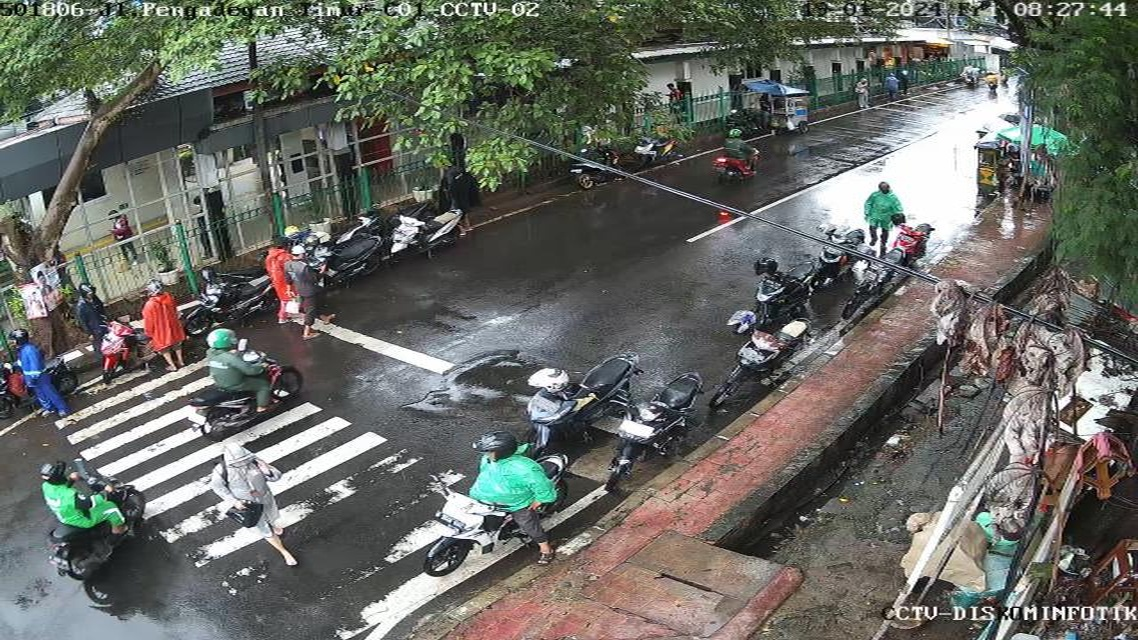Gerobak: (966, 123, 1012, 195), (765, 93, 821, 134)
